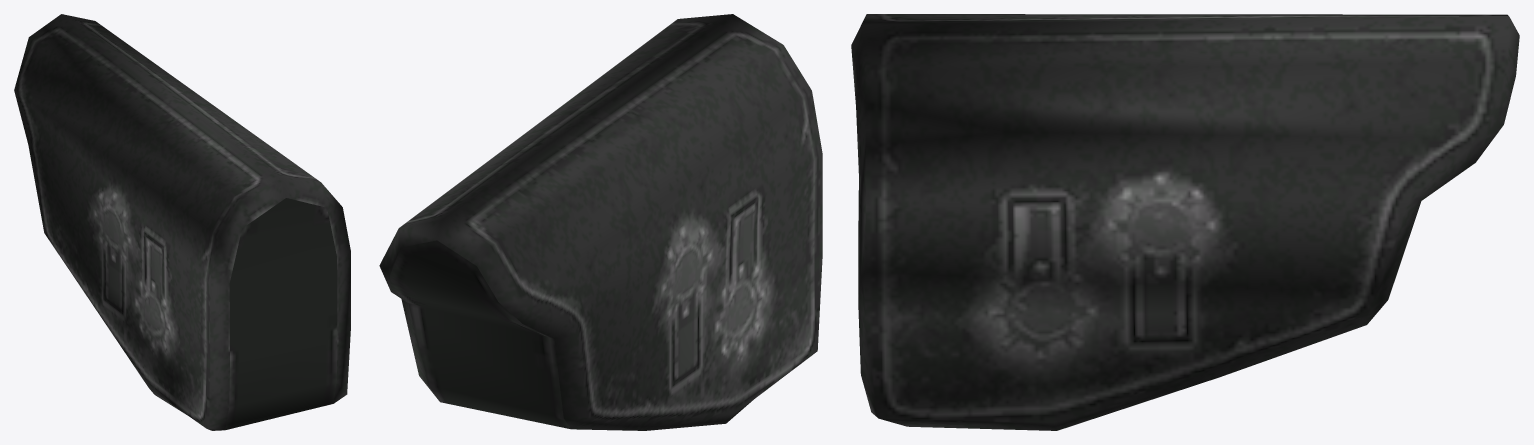
File: Sniper_Rifle_jjq_tsb_01_Carry_Handle_Main_(000965).glb
3 renders of one model, left to right at view 1: azimuth 30°, elevation 25°; view 2: azimuth 150°, elevation 25°; view 3: azimuth 270°, elevation 25°, orthographic. The views are drawn at different scales.
Parts seen in each view (by area): view 1: jjq_tsb_01; view 2: jjq_tsb_01; view 3: jjq_tsb_01.
Part boxes in pixels (x1,y1,x2,y2): jjq_tsb_01: [14, 14, 350, 430]; jjq_tsb_01: [379, 14, 822, 430]; jjq_tsb_01: [851, 14, 1519, 430].
Bounding box in the file's own units: 0.0572 × 0.0985 × 0.1611.
Materials: 1 (1 with a texture image).
